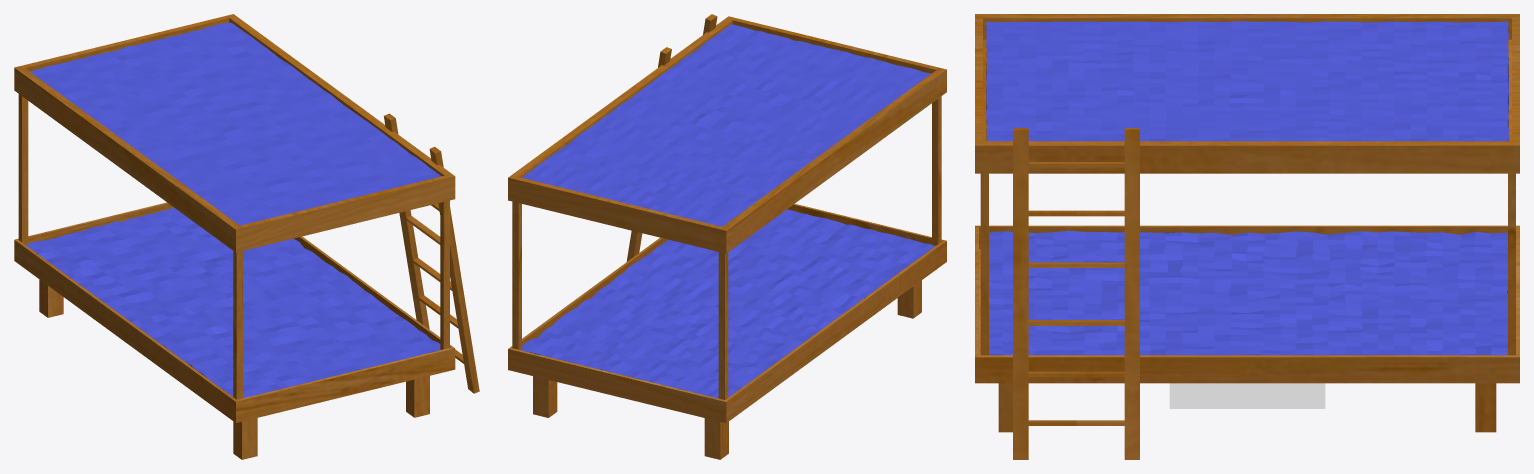
The model's file is bett - Kopie.glb.
3 views of the same model, side by side, from view 1: azimuth 30°, elevation 25°; view 2: azimuth 150°, elevation 25°; view 3: azimuth 270°, elevation 25° (orthographic). The views are drawn at different scales.
Visible parts, largest first — view 1: Matratze2, Matratze1, Bedframe, Leiter; view 2: Matratze2, Matratze1, Bedframe, Leiter; view 3: Matratze2, Matratze1, Bedframe, Leiter, Plane.
Part boxes in pixels (box(x1,y1,x2,y2)): Matratze2: box(29, 22, 441, 225); Matratze1: box(25, 207, 440, 398); Bedframe: box(14, 14, 455, 459); Leiter: box(384, 113, 479, 393); Matratze2: box(522, 24, 931, 226); Matratze1: box(522, 209, 935, 398); Bedframe: box(508, 16, 946, 459); Leiter: box(626, 14, 717, 261); Matratze2: box(986, 21, 1509, 141); Matratze1: box(989, 230, 1507, 355); Bedframe: box(975, 14, 1519, 432); Leiter: box(1013, 128, 1139, 459); Plane: box(1169, 383, 1325, 408).
Bounding box in the file's own units: 4.73 × 4.43 × 7.
3 materials, 1 textured.
